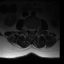CCS_normal: (31, 27, 33, 33)
LFS_normal: (34, 26, 36, 32)
LLS_normal: (33, 26, 34, 32)
RFS_normal: (27, 26, 29, 32)
RLS_normal: (29, 26, 31, 32)
